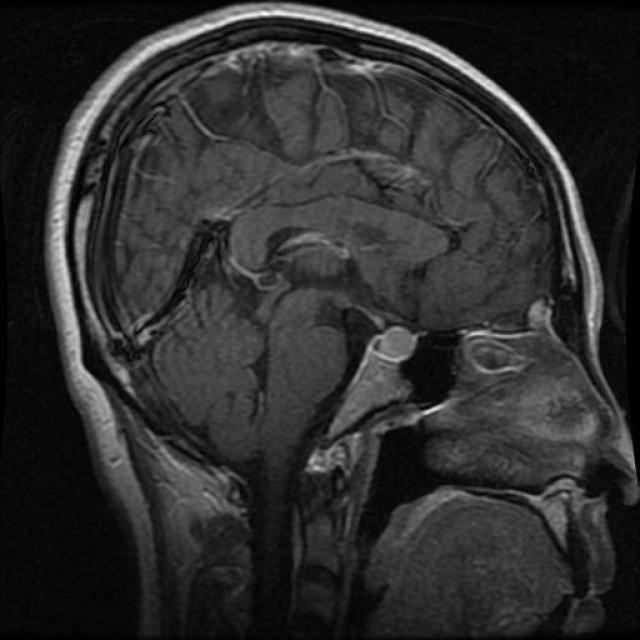pituitary: (324, 320, 422, 433)
